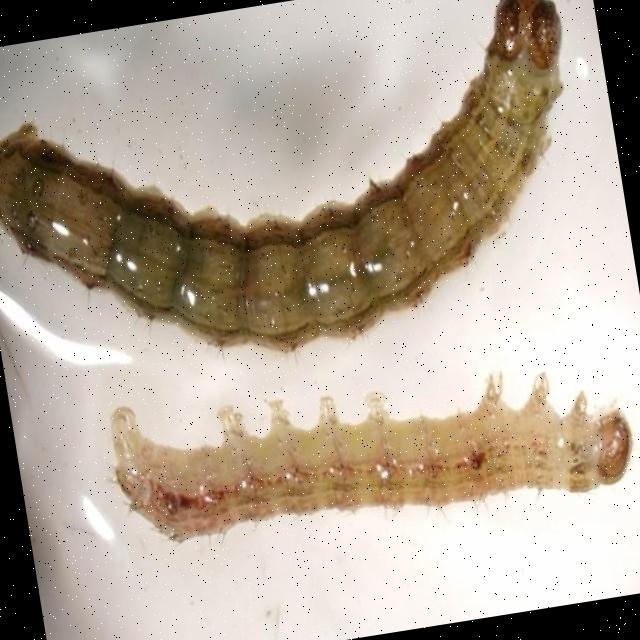worm: (1, 1, 608, 402), (101, 330, 640, 570)
